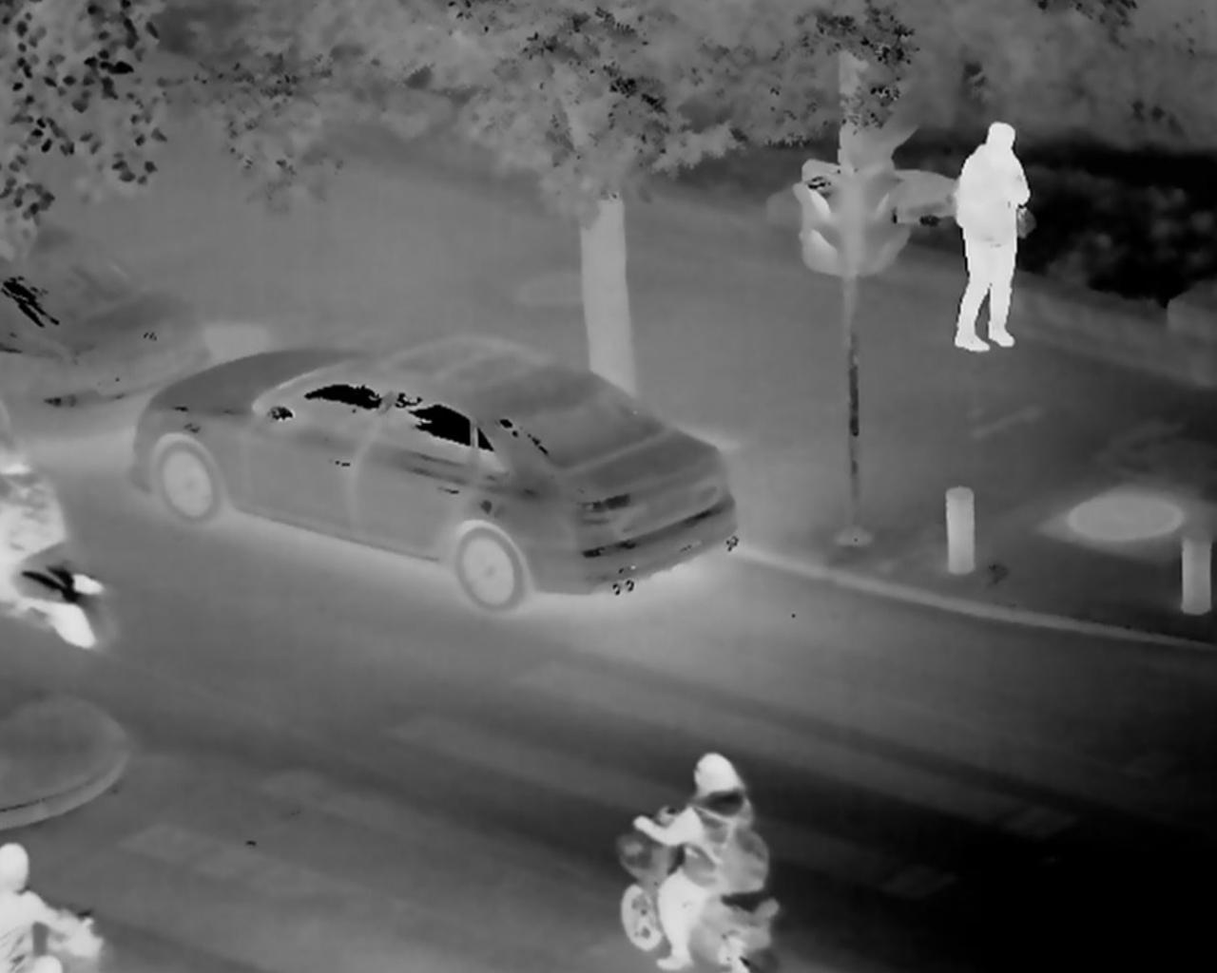person: (628, 735, 781, 973), (941, 110, 1033, 364), (2, 419, 65, 634), (4, 824, 92, 973)
